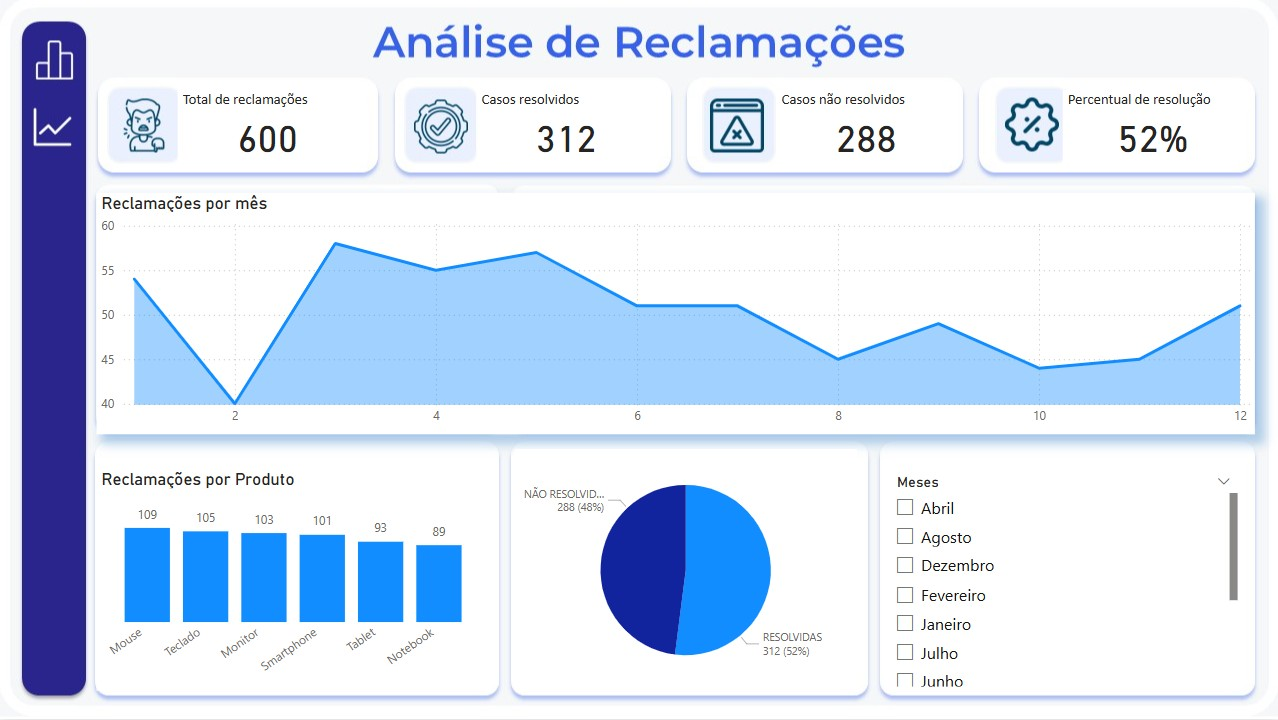

The page's visual inventory and layout, read from the dashboard file:
{"tool":"powerbi","page":{"name":"Dashboard","canvas":[1280,720],"ordinal":0},"visuals":[{"type":"card","title":"Total de reclamações","fields":{"Values":["Reclamacoes.Total Reclamações"]},"box":[178.8,91.2,180,72.5],"z":0},{"type":"card","title":"Casos resolvidos","fields":{"Values":["Reclamacoes.RESOLVIDAS"]},"box":[477.5,91.2,180,72.5],"z":1000},{"type":"card","title":"Casos não resolvidos","fields":{"Values":["Reclamacoes.NÃO RESOLVIDAS"]},"box":[777.5,91.2,180,72.5],"z":2000},{"type":"card","title":"Percentual de resolução","fields":{"Values":["Reclamacoes.% Resolvidas"]},"box":[1063.8,91.2,180,72.5],"z":3000},{"type":"lineChart","title":"Reclamações por mês","fields":{"Y":["Reclamacoes.Total Reclamações"],"Category":["TabelaMeses.Ordem"]},"box":[97.5,193.8,1158.8,241.2],"z":5000},{"type":"columnChart","title":"Reclamações por Produto","fields":{"Category":["Reclamacoes.Produto"],"Y":["Reclamacoes.Total Reclamações"]},"box":[97.5,470,395,221.2],"z":6000},{"type":"slicer","fields":{"Values":["Reclamacoes.Mês"]},"box":[885,470,358.8,222.5],"z":7000},{"type":"pieChart","fields":{"Y":["Reclamacoes.RESOLVIDAS","Reclamacoes.NÃO RESOLVIDAS"]},"box":[516.2,450,341.2,242.5],"z":8000}]}

Visuals, with their boxes in screenshot pixels (x1, y1, x2, y2):
"Total de reclamações" card: [x1=100, y1=100, x2=277, y2=171]
"Casos resolvidos" card: [x1=394, y1=100, x2=571, y2=171]
"Casos não resolvidos" card: [x1=689, y1=100, x2=866, y2=171]
"Percentual de resolução" card: [x1=971, y1=100, x2=1148, y2=171]
"Reclamações por mês" lineChart: [x1=19, y1=201, x2=1160, y2=438]
"Reclamações por Produto" columnChart: [x1=19, y1=473, x2=408, y2=691]
slicer - Reclamacoes.Mês: [x1=795, y1=473, x2=1148, y2=692]
pieChart - Reclamacoes.RESOLVIDAS x Reclamacoes.NÃO RESOLVIDAS: [x1=432, y1=453, x2=768, y2=692]
